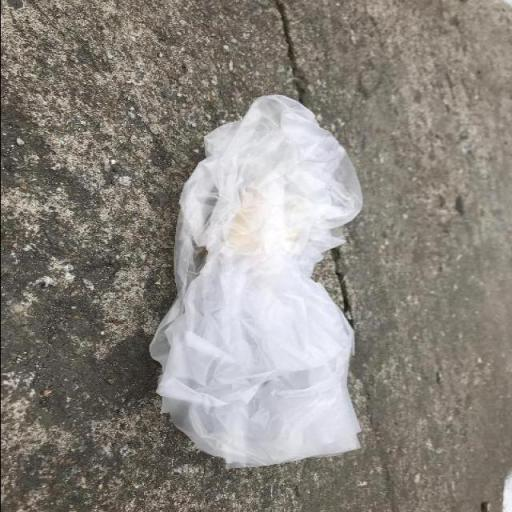plastic-bag: (146, 94, 366, 472)
